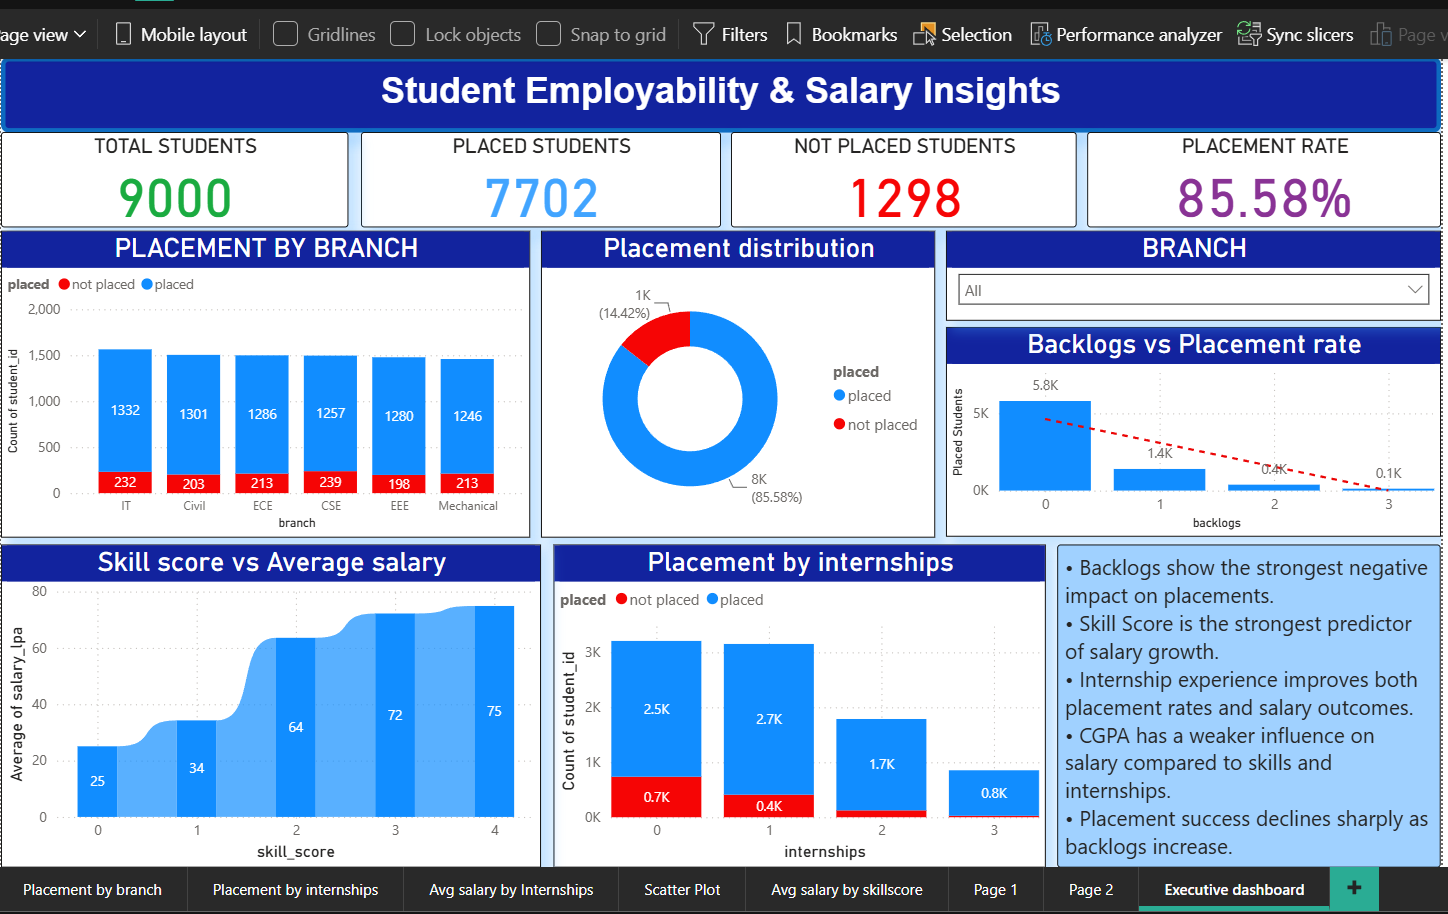

The page's visual inventory and layout, read from the dashboard file:
{"tool":"powerbi","page":{"name":"Executive dashboard","canvas":[1280,720],"ordinal":7},"visuals":[{"type":"textbox","box":[0,0,1280,67.2],"z":0},{"type":"card","title":"PLACED STUDENTS","fields":{"Values":["student_placement_salary_elite_.Placed Students"]},"box":[319.7,67.2,319.7,84.6],"z":1000},{"type":"card","title":"TOTAL STUDENTS","fields":{"Values":["student_placement_salary_elite_.Total Students"]},"box":[0,67.2,308.5,84.6],"z":2000},{"type":"card","title":"NOT PLACED STUDENTS","fields":{"Values":["student_placement_salary_elite_.Not placed Students"]},"box":[649.3,67.2,307.3,84.6],"z":3000},{"type":"card","title":"PLACEMENT RATE","fields":{"Values":["student_placement_salary_elite_.Placement rate"]},"box":[965.3,67.2,314.7,84.6],"z":4000},{"type":"columnChart","title":" PLACEMENT BY BRANCH","fields":{"Category":["student_placement_salary_elite_.branch"],"Series":["student_placement_salary_elite_.placed"],"Y":["CountNonNull(student_placement_salary_elite_.student_id)"]},"box":[0,154.3,470.2,272.4],"z":5000},{"type":"donutChart","title":"Placement distribution","fields":{"Category":["student_placement_salary_elite_.placed"],"Y":["student_placement_salary_elite_.Total Students"]},"box":[480.2,154.3,350.8,272.4],"z":6000},{"type":"clusteredColumnChart","title":"Backlogs vs Placement rate","fields":{"Category":["student_placement_salary_elite_.backlogs"],"Y":["student_placement_salary_elite_.Placed Students"]},"box":[839.7,240.1,440.4,186.6],"z":7000},{"type":"columnChart","title":"Placement by internships","fields":{"Series":["student_placement_salary_elite_.placed"],"Category":["student_placement_salary_elite_.internships"],"Y":["CountNonNull(student_placement_salary_elite_.student_id)"]},"box":[491.4,432.9,437.9,287.4],"z":8000},{"type":"ribbonChart","title":"Skill score vs Average salary","fields":{"Category":["student_placement_salary_elite_.skill_score"],"Y":["Avg(student_placement_salary_elite_.salary_lpa)"]},"box":[0,432.9,480.2,287.4],"z":9000},{"type":"slicer","title":"BRANCH","fields":{"Values":["student_placement_salary_elite_.branch"]},"box":[839.7,154.3,440.4,79.6],"z":10000},{"type":"textbox","box":[939.2,432.9,340.8,287.4],"z":11000}]}

Visuals, with their boxes on the page's 1280x720 design canvas (x1, y1, x2, y2). These are canvas units, not pixel positions in the 1448x914 screenshot, which may show the page scaled, cropped or inside an application window:
textbox: crop(0, 0, 1280, 67)
"PLACED STUDENTS" card: crop(320, 67, 639, 152)
"TOTAL STUDENTS" card: crop(0, 67, 308, 152)
"NOT PLACED STUDENTS" card: crop(649, 67, 957, 152)
"PLACEMENT RATE" card: crop(965, 67, 1280, 152)
" PLACEMENT BY BRANCH" columnChart: crop(0, 154, 470, 427)
"Placement distribution" donutChart: crop(480, 154, 831, 427)
"Backlogs vs Placement rate" clusteredColumnChart: crop(840, 240, 1280, 427)
"Placement by internships" columnChart: crop(491, 433, 929, 720)
"Skill score vs Average salary" ribbonChart: crop(0, 433, 480, 720)
"BRANCH" slicer: crop(840, 154, 1280, 234)
textbox: crop(939, 433, 1280, 720)
